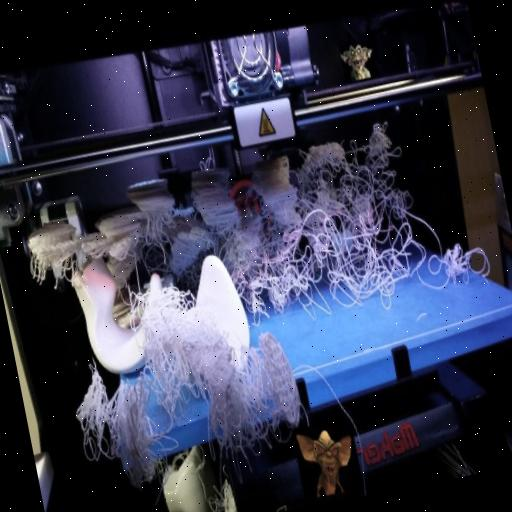spaghetti: (208, 122, 428, 324), (136, 288, 267, 482), (64, 367, 164, 491), (421, 222, 493, 310), (23, 236, 87, 296), (138, 204, 179, 259)
